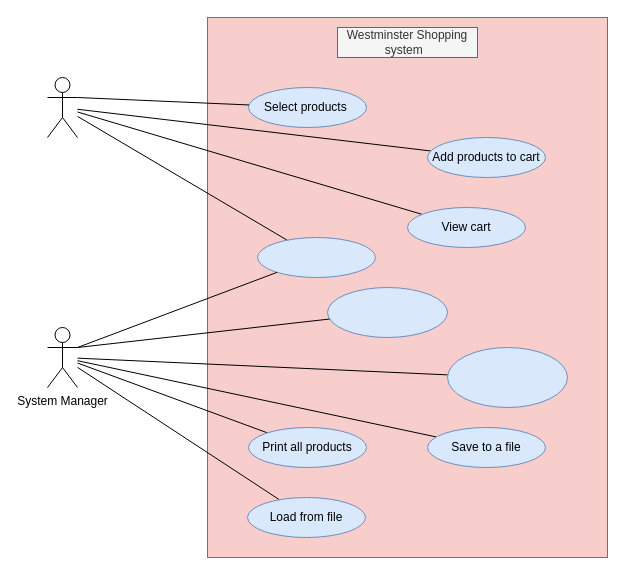
This 625x575 diagram has some shape labels left out. The shapes that lost their labels are listed below. From the top down, each one's centre as x and y in pixels, then its label:
the point at 62,107: Customer
the point at 316,257: Exit
the point at 387,312: Add product to the system
the point at 507,377: Remove product from system
